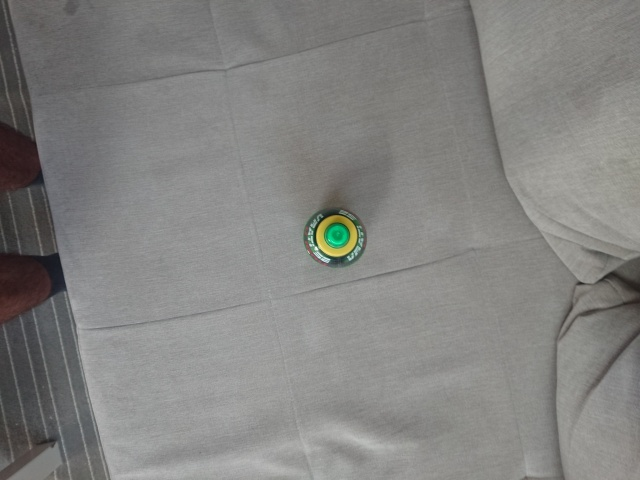Vindi Iso Sport Lemon-Grapefruit 500mL: (301, 205, 369, 270)
